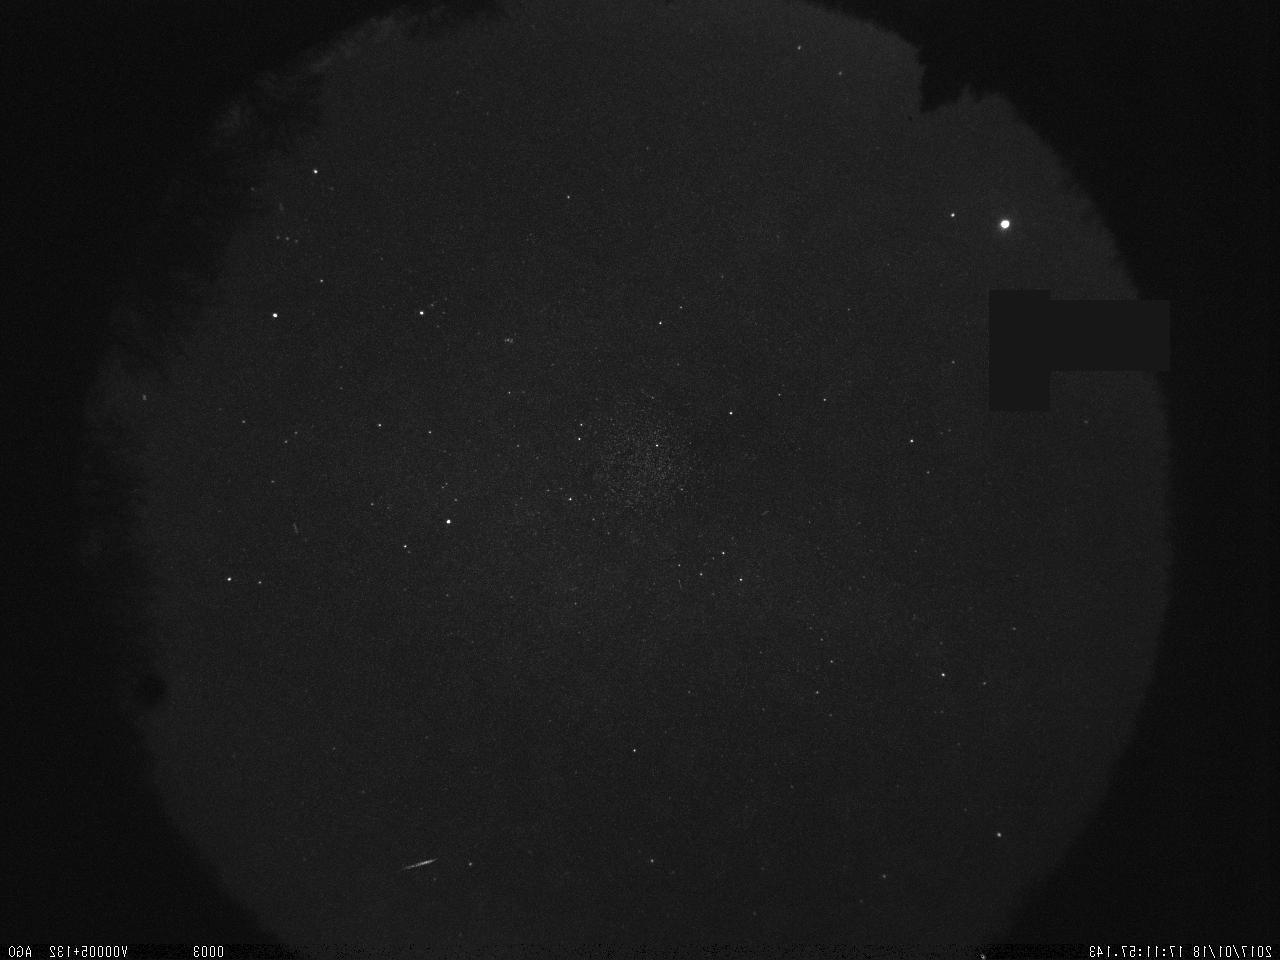meteor: (388, 849, 442, 884)
